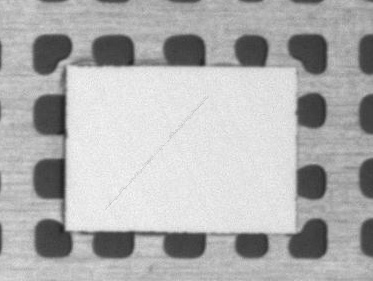DIE_CRACK: (139, 73, 275, 157)
